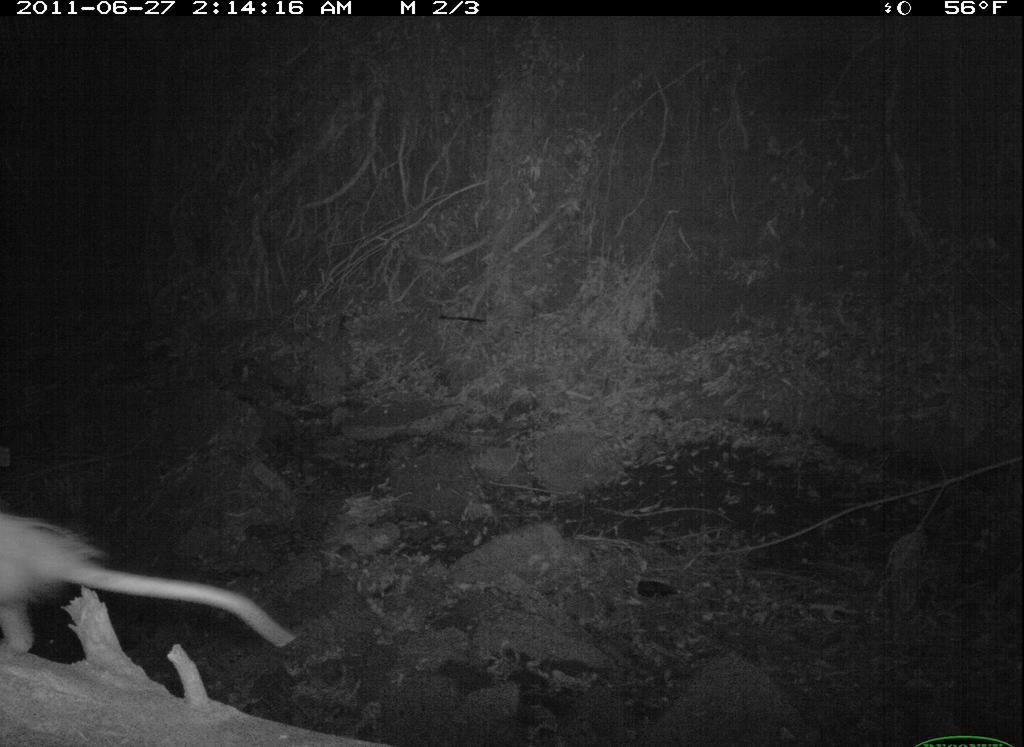opossum: (2, 502, 308, 665)
